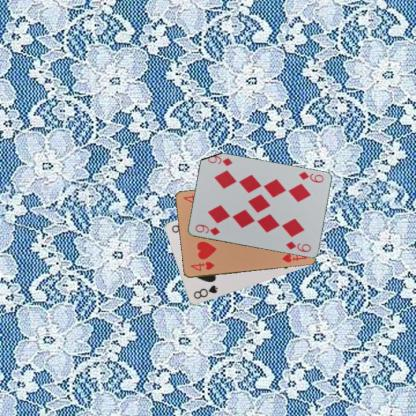4h: (188, 259, 215, 273)
8s: (191, 282, 219, 300)
9d: (192, 222, 221, 237), (296, 170, 325, 184)
